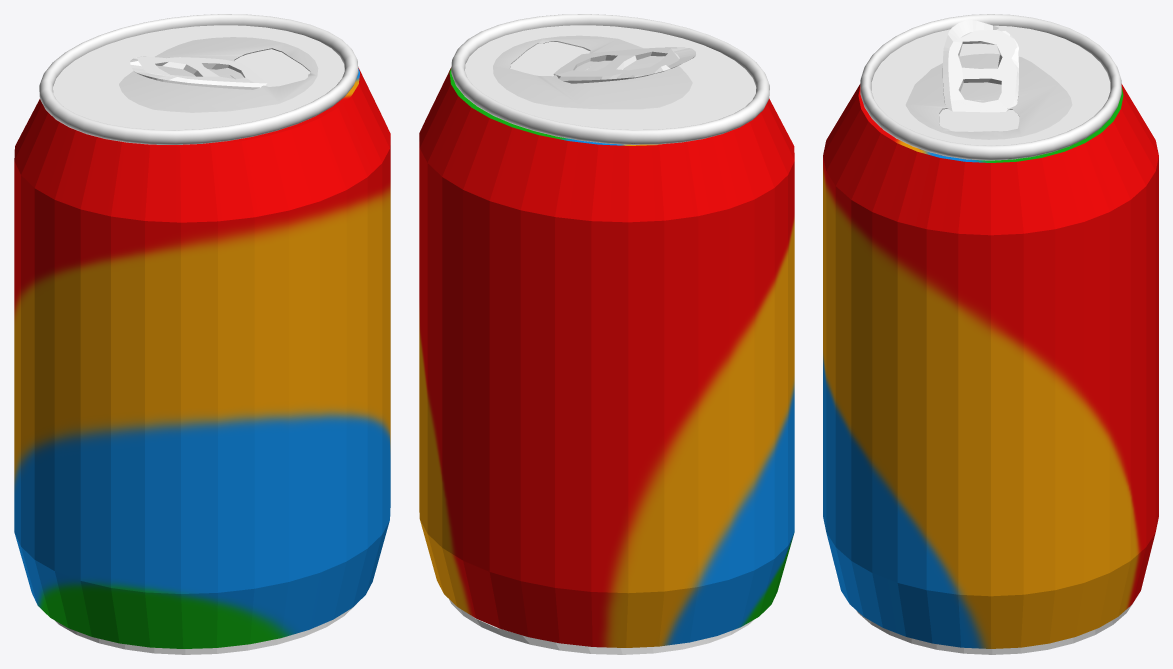
File: lata.gltf
3 views of the same model, side by side, from view 1: azimuth 30°, elevation 25°; view 2: azimuth 150°, elevation 25°; view 3: azimuth 270°, elevation 25° (orthographic). The views are drawn at different scales.
Visible parts, largest first — view 1: Cylinder, Cylinder.005, Torus, Cylinder.002, Cylinder.001, Cylinder.003; view 2: Cylinder, Cylinder.005, Torus, Cylinder.002, Cylinder.001, Cylinder.003; view 3: Cylinder, Cylinder.005, Torus, Cylinder.002, Cylinder.001, Cylinder.003.
Part boxes in pixels (x1,y1,x2,y2): Cylinder: (14,67,390,648); Cylinder.005: (53,25,344,130); Torus: (39,14,358,144); Cylinder.002: (119,37,318,112); Cylinder.001: (130,56,267,89); Cylinder.003: (55,604,356,654); Cylinder: (419,67,794,647); Cylinder.005: (465,25,756,129); Torus: (451,14,769,144); Cylinder.002: (493,35,692,109); Cylinder.001: (553,47,695,83); Cylinder.003: (449,599,753,654); Cylinder: (823,84,1158,648); Cylinder.005: (871,25,1110,160); Torus: (860,14,1121,160); Cylinder.002: (905,53,1072,139); Cylinder.001: (942,19,1018,112); Cylinder.003: (856,605,1131,654).
Size of the model in its own units: 2 by 3.11 by 1.78.
3 materials, 1 textured.
